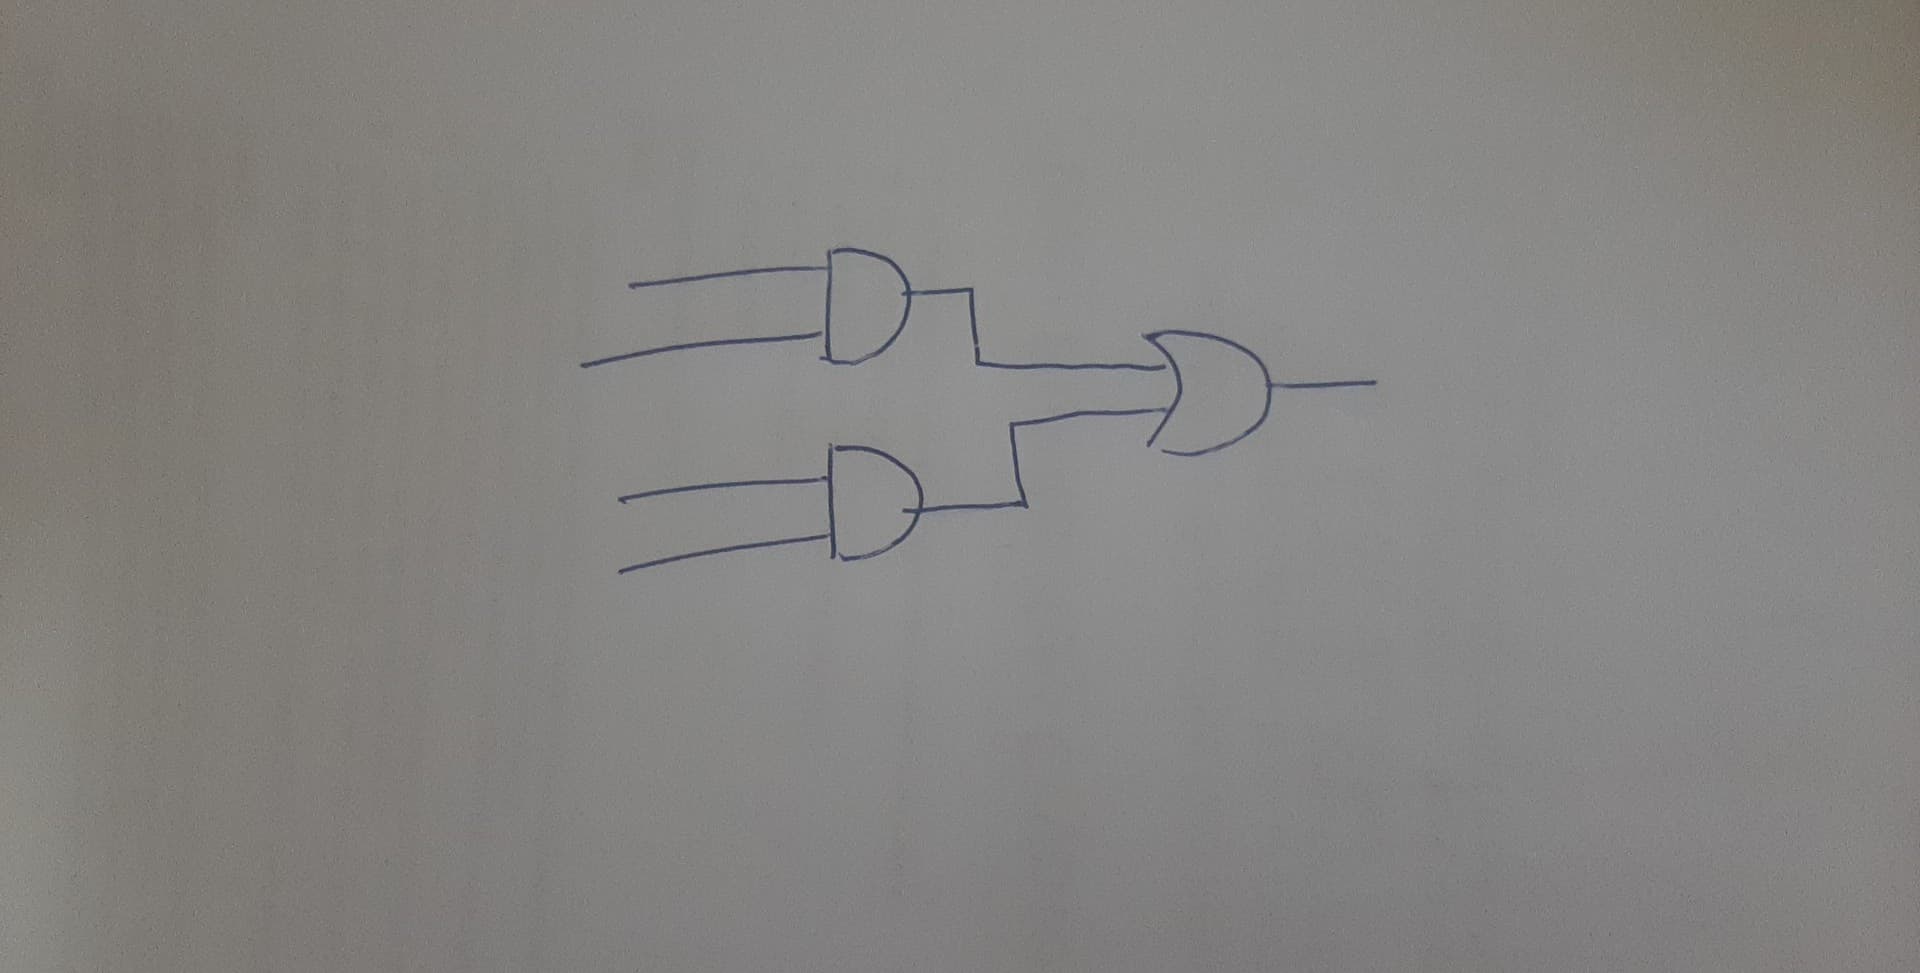and: (821, 434, 929, 567), (812, 240, 917, 375)
or: (1142, 316, 1278, 469)
